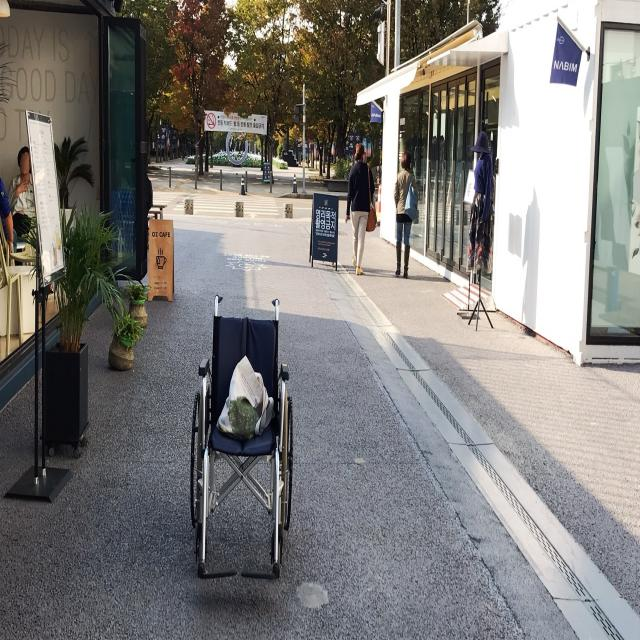횡단보도: (147, 195, 280, 219)
